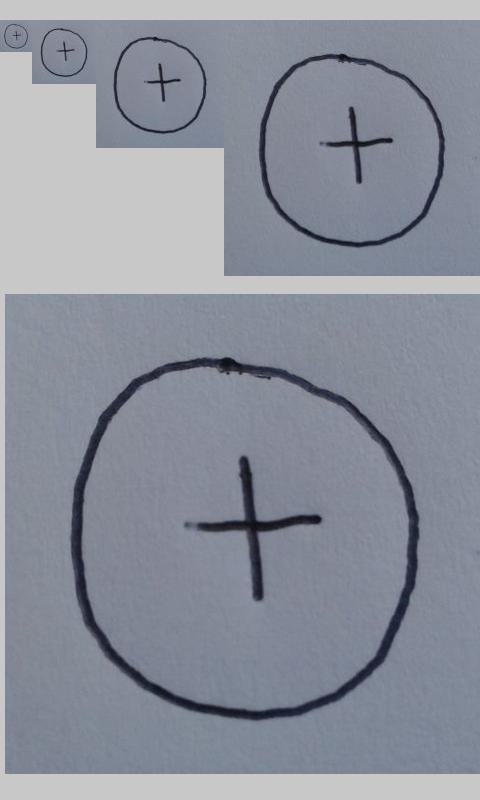button: (68, 355, 424, 720), (258, 53, 445, 248), (113, 36, 207, 135), (40, 28, 88, 77), (3, 23, 28, 49)
